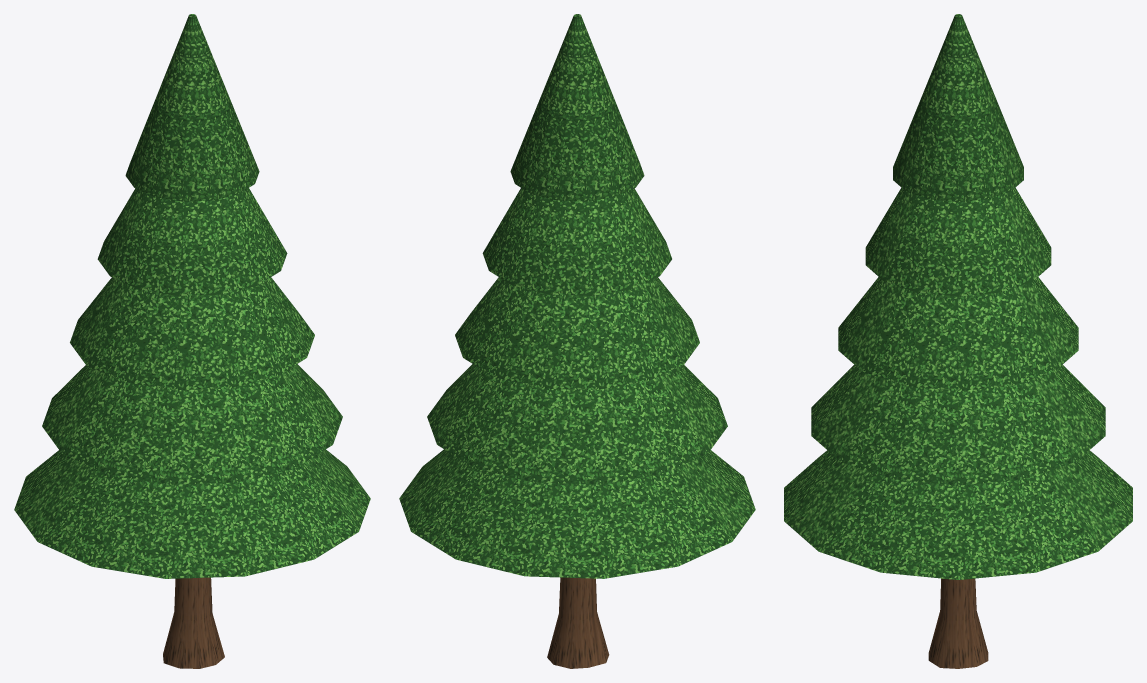
Rendered from pine.glb.
The picture shows the model from 3 angles, left to right: view 1: azimuth 30°, elevation 25°; view 2: azimuth 150°, elevation 25°; view 3: azimuth 270°, elevation 25°; orthographic projection.
Parts seen in each view (by area): view 1: pine; view 2: pine; view 3: pine.
Boxes of the visible parts, x1,y1,x2,y2 form: pine: [14, 14, 370, 668]; pine: [399, 14, 755, 668]; pine: [784, 14, 1132, 668].
Bounding box in the file's own units: 4.8 × 9.49 × 4.68.
Materials: 2 (2 with a texture image).
